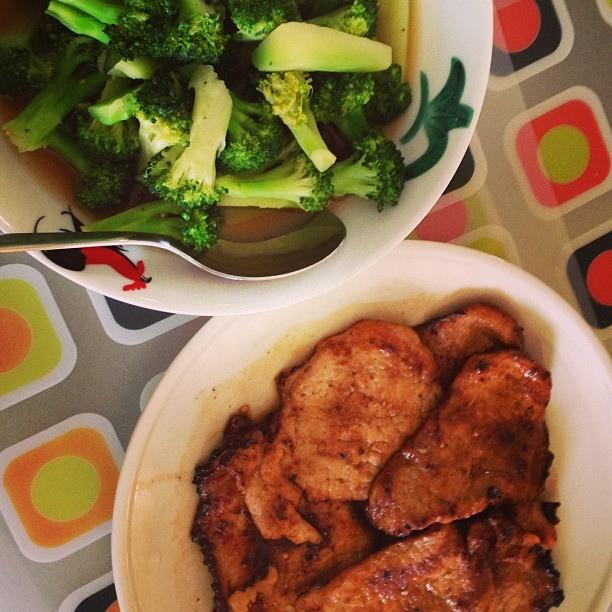broccoli: (137, 64, 233, 208), (4, 23, 110, 152), (45, 0, 230, 66), (246, 62, 338, 172), (215, 146, 334, 214), (80, 199, 223, 254), (252, 21, 393, 73), (47, 128, 134, 212), (128, 68, 195, 177), (324, 127, 406, 213), (72, 74, 141, 164), (220, 89, 295, 170), (309, 71, 376, 152), (227, 1, 303, 42), (364, 63, 413, 126), (306, 0, 378, 39), (88, 82, 147, 125), (104, 47, 162, 80)
